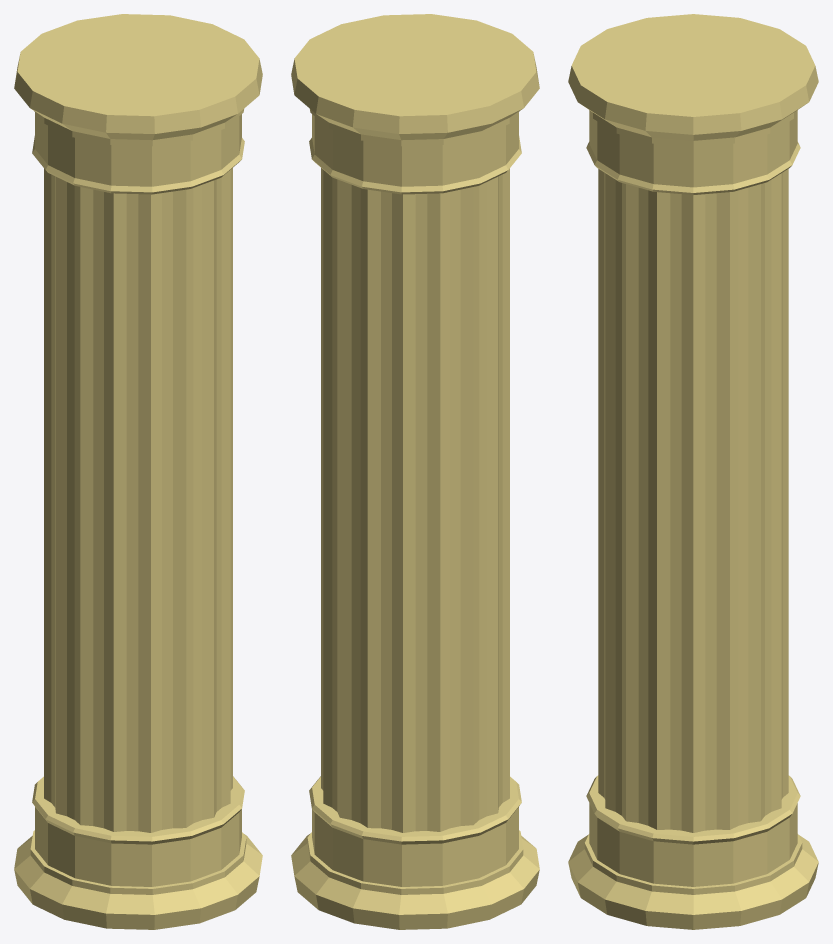
File: kolonnaslom.fbx
The picture shows the model from 3 angles, left to right: view 1: azimuth 30°, elevation 25°; view 2: azimuth 150°, elevation 25°; view 3: azimuth 270°, elevation 25°; orthographic projection.
Visible parts, largest first — view 1: Circle; view 2: Circle; view 3: Circle.
Part boxes in pixels (x1,y1,x2,y2): Circle: (14,14,262,929); Circle: (291,14,539,929); Circle: (568,14,818,929).
Size of the model in its own units: 85.57 by 306 by 85.57.
